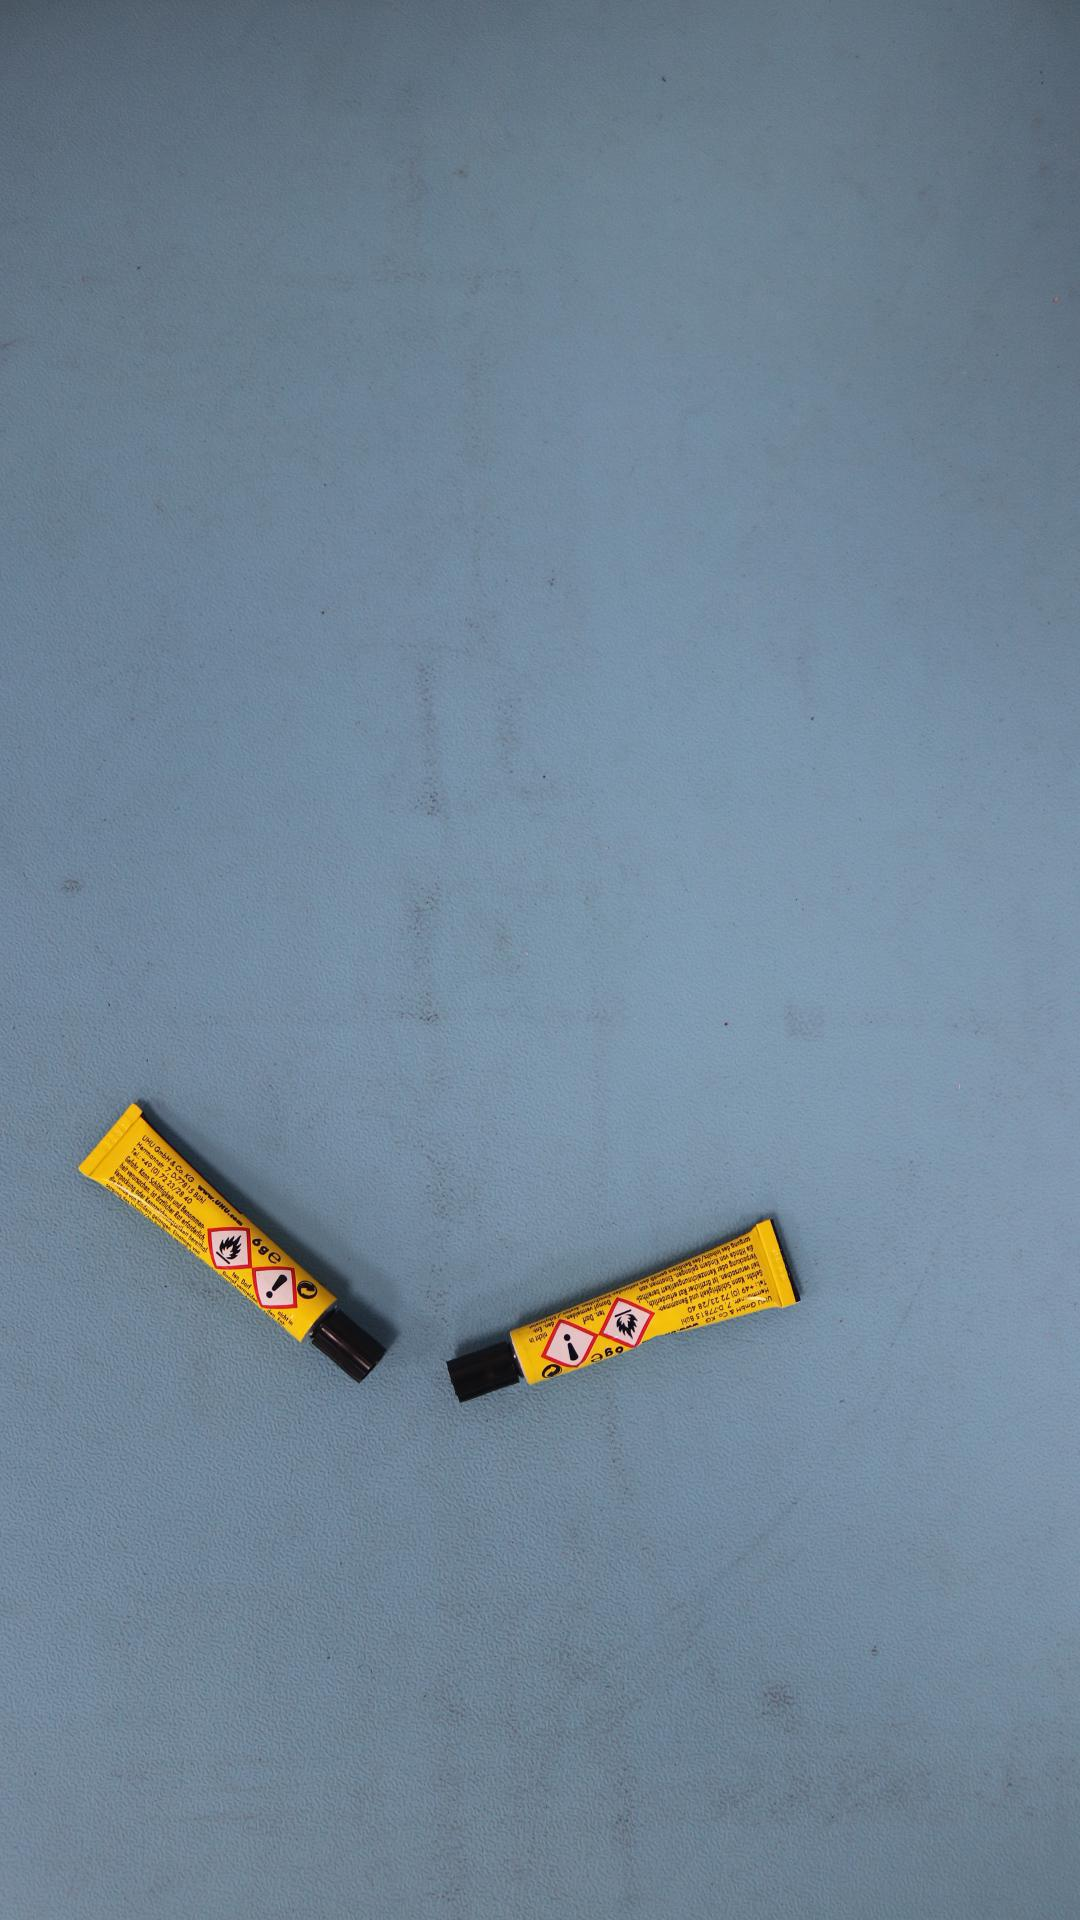Head: (343, 1342, 352, 1351), (479, 1369, 486, 1376)
Tail: (774, 1260, 782, 1268), (105, 1140, 111, 1146)
Tube: (78, 1103, 386, 1384), (445, 1218, 801, 1403)
